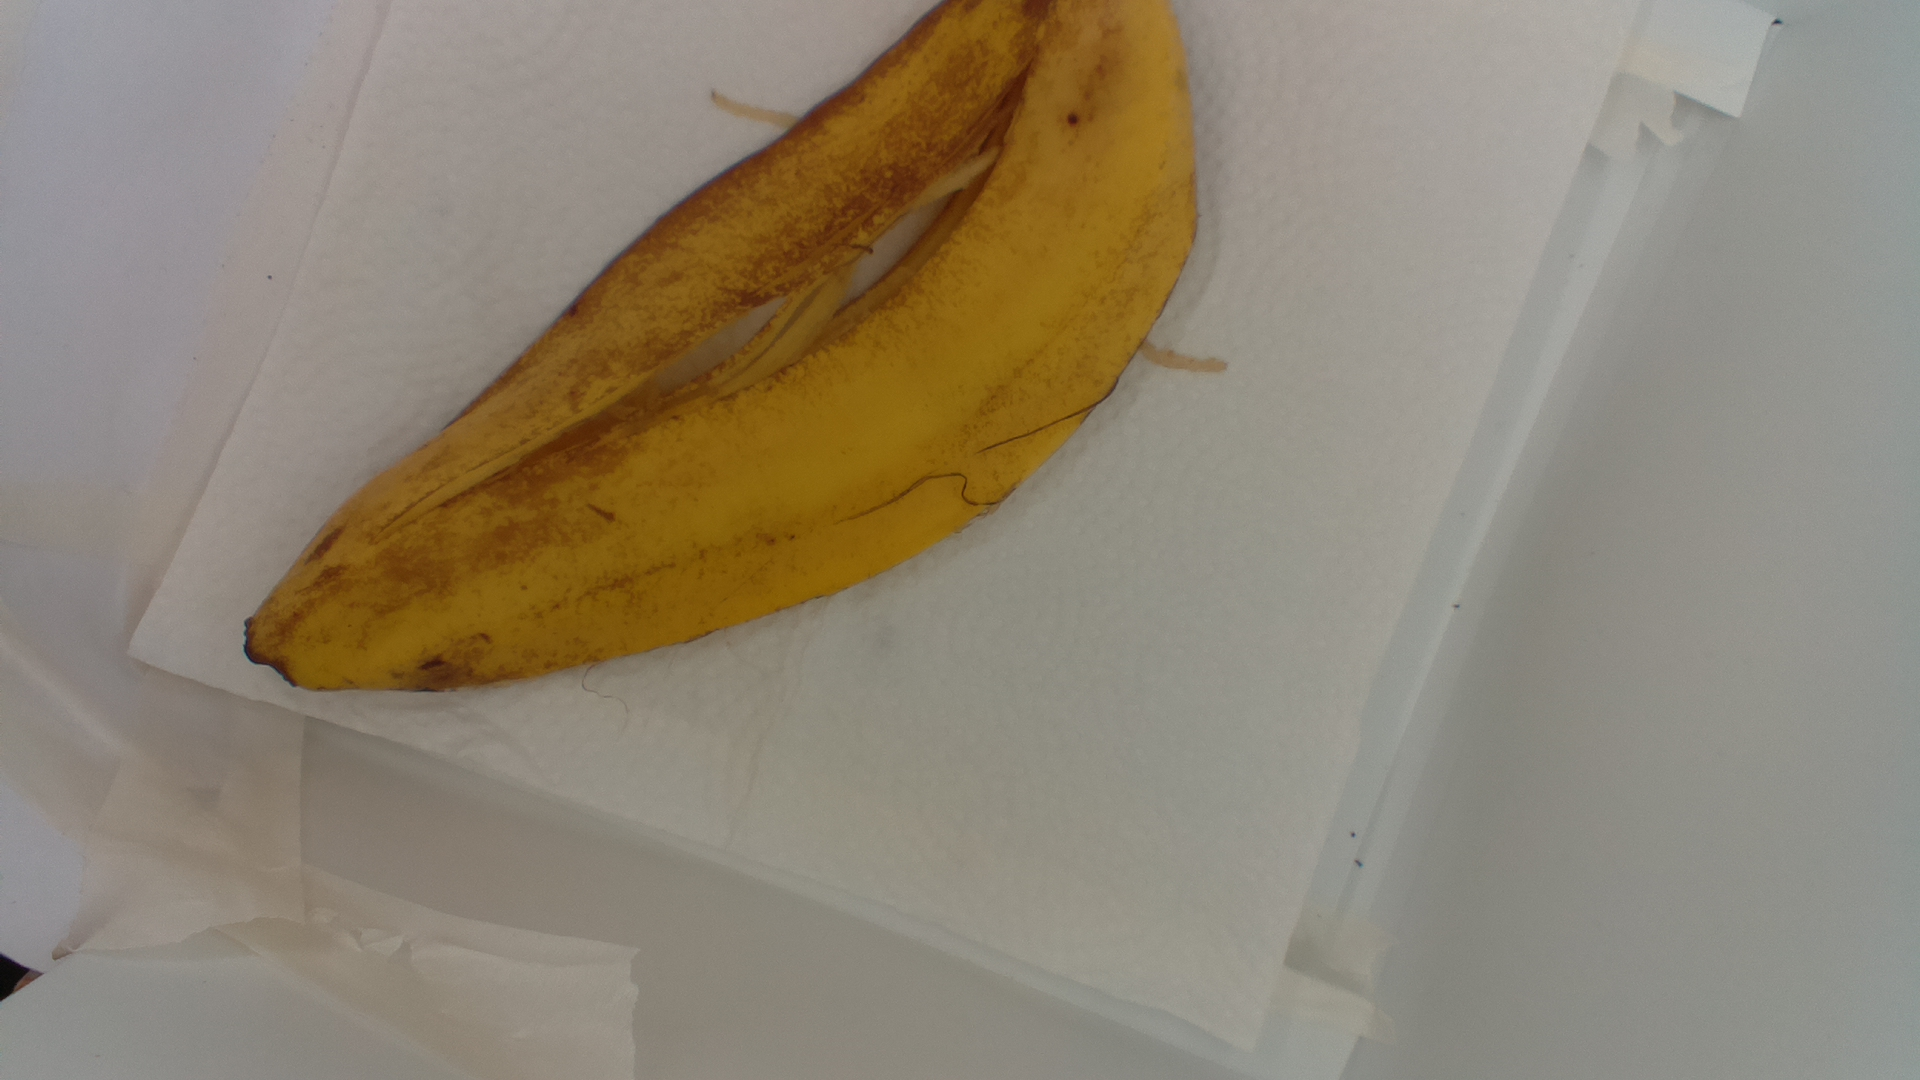fruit: (237, 1, 1215, 700)
